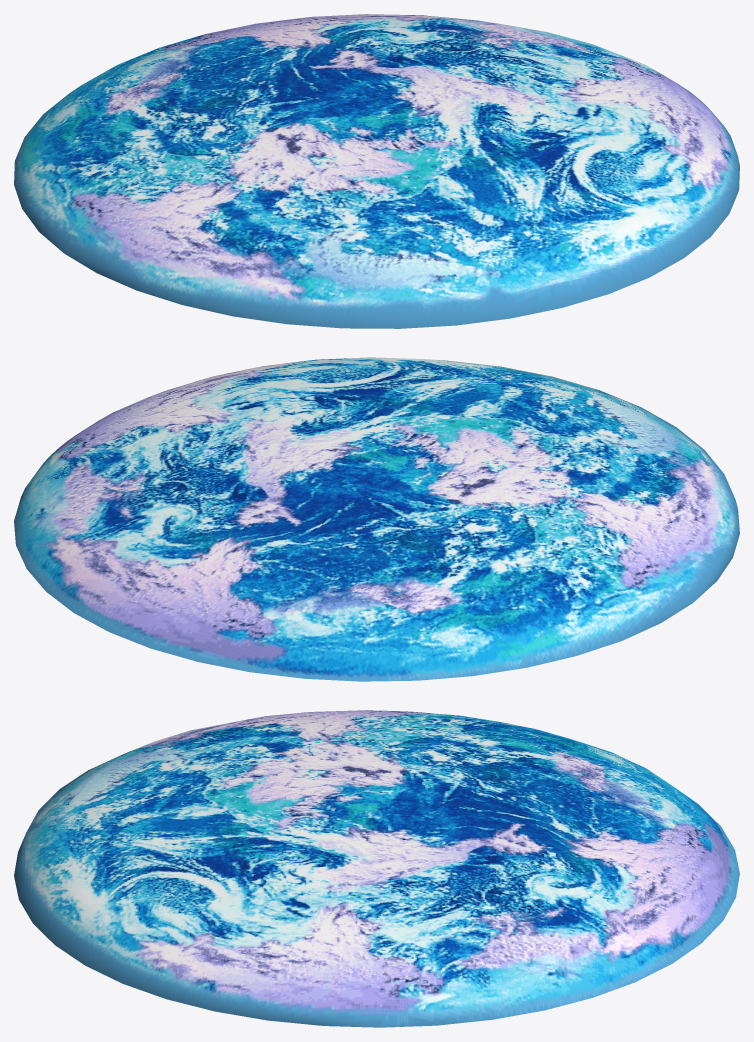
Rendered from Earth.obj.
3 views of the same model, one above another, from view 1: azimuth 30°, elevation 25°; view 2: azimuth 150°, elevation 25°; view 3: azimuth 270°, elevation 25° (orthographic).
Bounding box in the file's own units: 224 × 21.43 × 225.
1 material, 1 textured.
